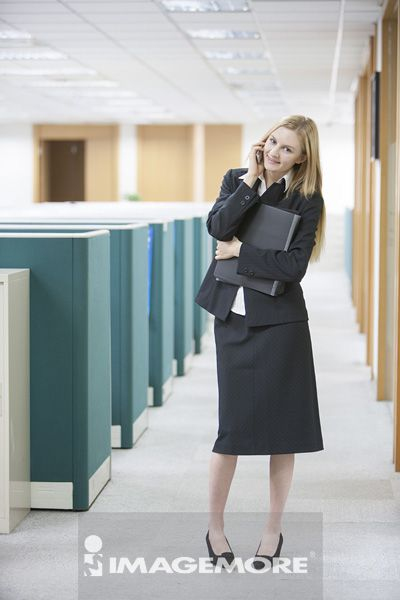talk: (248, 133, 295, 175)
